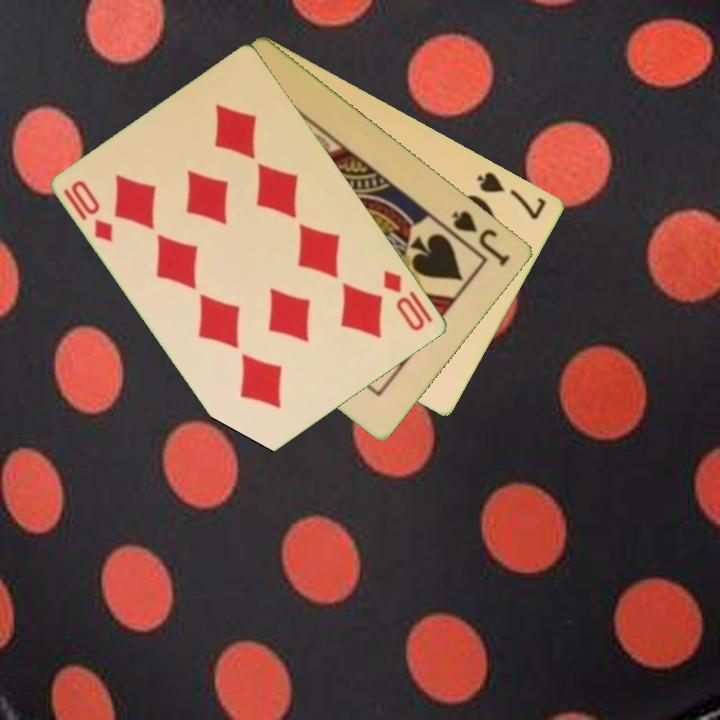10d: (60, 176, 117, 246), (380, 266, 436, 335)
7s: (473, 168, 550, 223)
Js: (449, 207, 514, 270)
